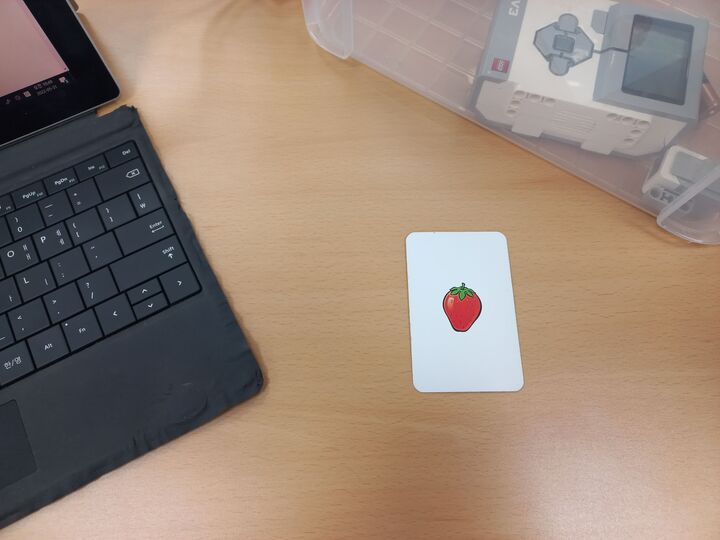strawberry1: (405, 229, 526, 392)
